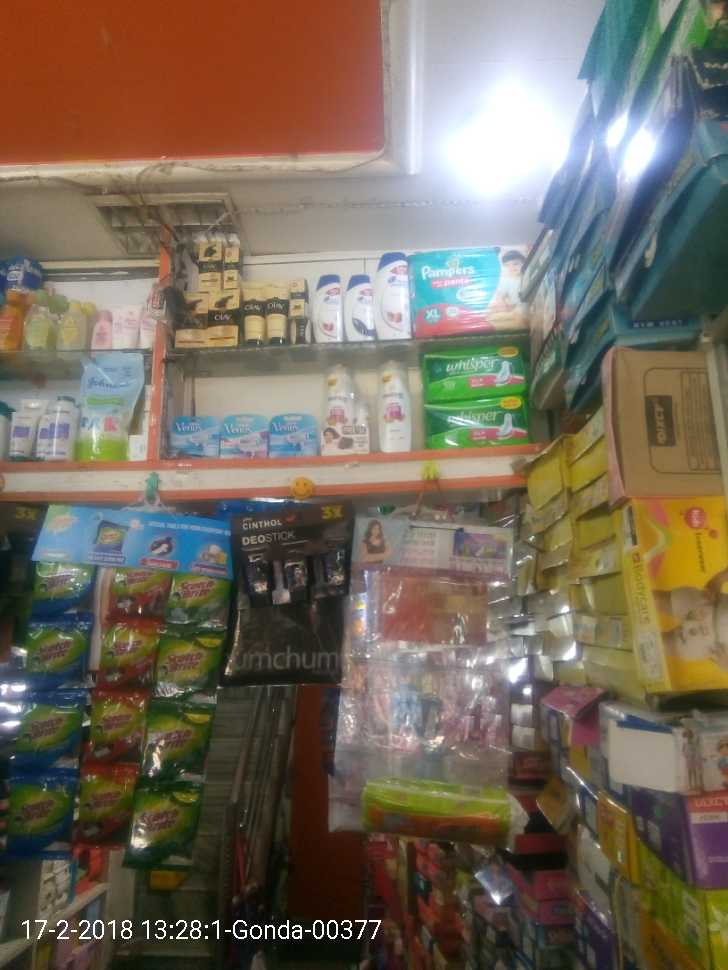venus: (269, 413, 319, 455), (170, 415, 223, 454), (223, 415, 269, 455)
